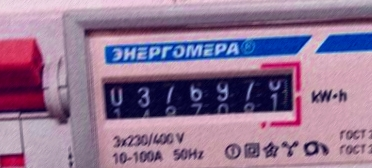0: (109, 84, 124, 106)
1: (268, 91, 281, 112)
3: (136, 85, 153, 108)
6: (188, 78, 204, 102)
7: (161, 80, 177, 104), (242, 77, 257, 101)
9: (214, 78, 230, 102)
screen: (92, 56, 307, 141)
